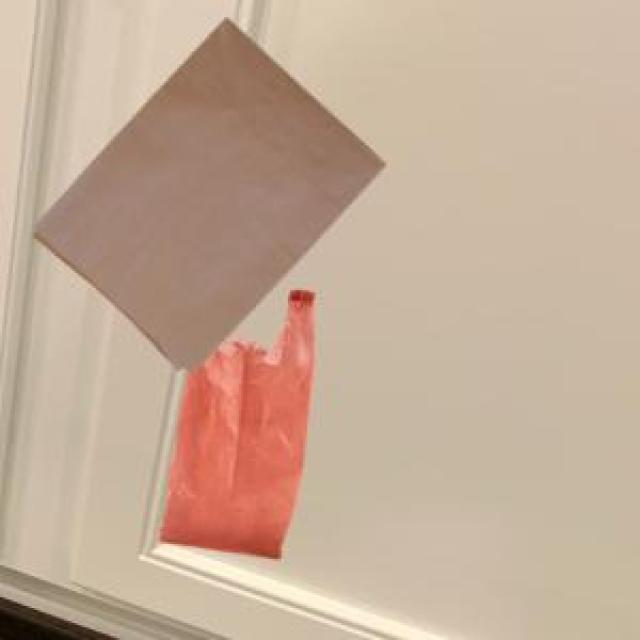paper: (30, 15, 382, 369)
